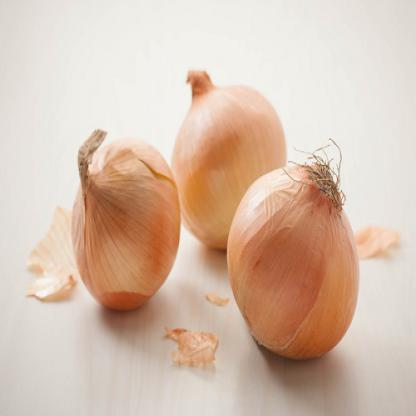onion: (233, 144, 356, 372), (79, 122, 183, 318), (179, 59, 283, 232)
